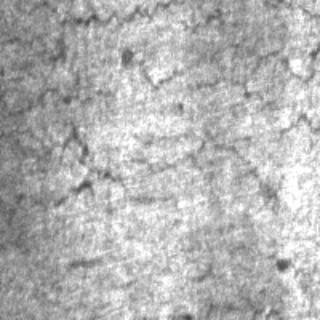crazing: (110, 2, 312, 195), (7, 119, 184, 213), (4, 0, 240, 58)
